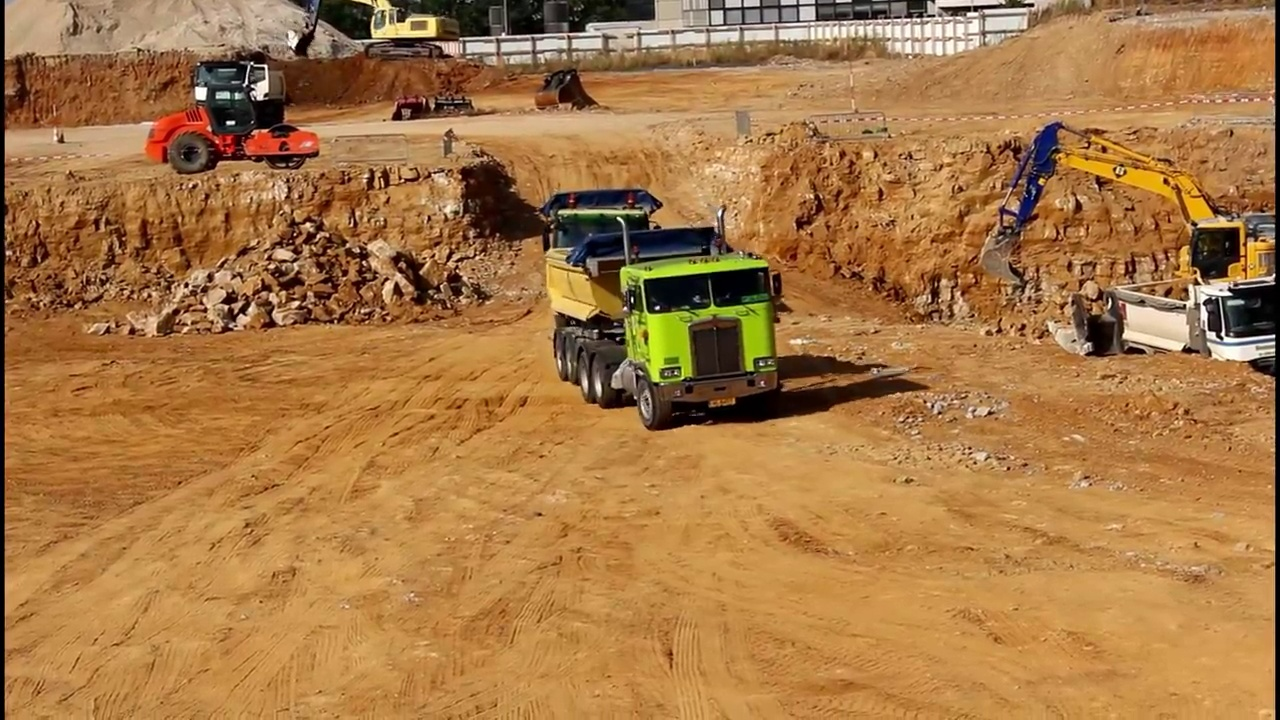compactor: (142, 83, 326, 176)
excavator: (971, 117, 1280, 336), (280, 1, 466, 67)
truck: (546, 205, 792, 434), (1090, 269, 1280, 400), (532, 179, 667, 336), (187, 52, 291, 141)
